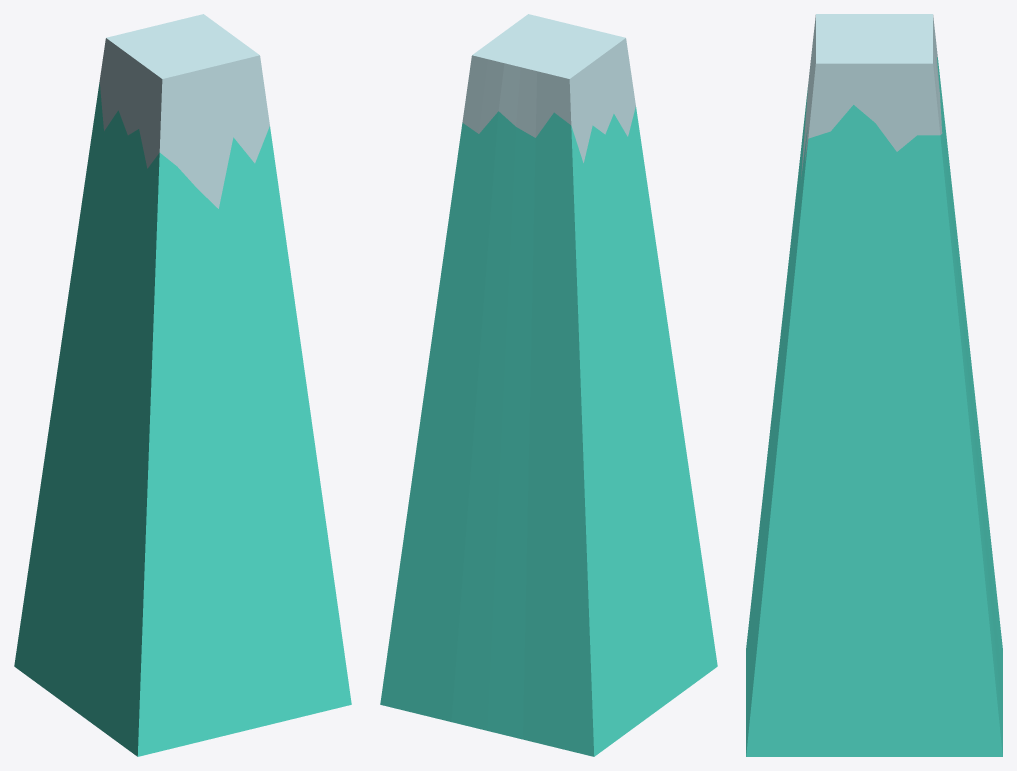
File: Mountain2.fbx
The picture shows the model from 3 angles, left to right: view 1: azimuth 30°, elevation 25°; view 2: azimuth 150°, elevation 25°; view 3: azimuth 270°, elevation 25°; orthographic projection. The views are drawn at different scales.
Visible parts, largest first — view 1: dağ2; view 2: dağ2; view 3: dağ2.
Boxes of the visible parts, bbox=[...] form: dağ2: bbox=[14, 14, 351, 756]; dağ2: bbox=[380, 14, 717, 756]; dağ2: bbox=[746, 14, 1002, 756].
Size of the model in its own units: 0.9033 by 2.58 by 0.9033.
